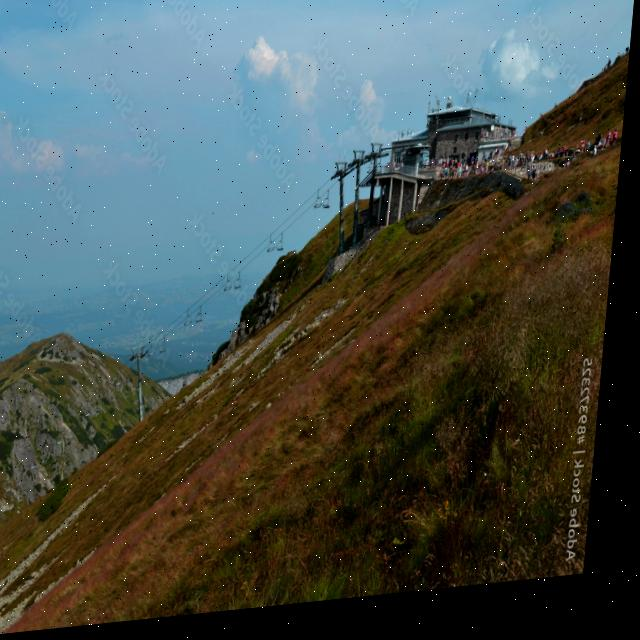Uhrocie Kasprowe: (0, 241, 140, 441)
